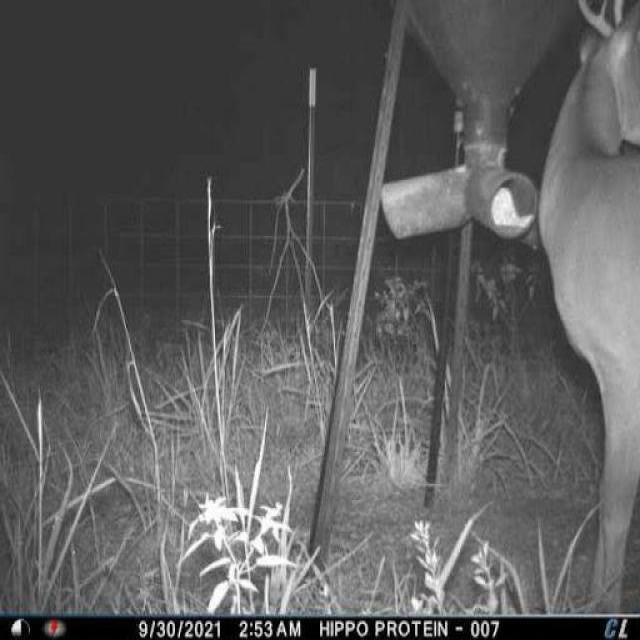deer: (529, 0, 640, 617)
